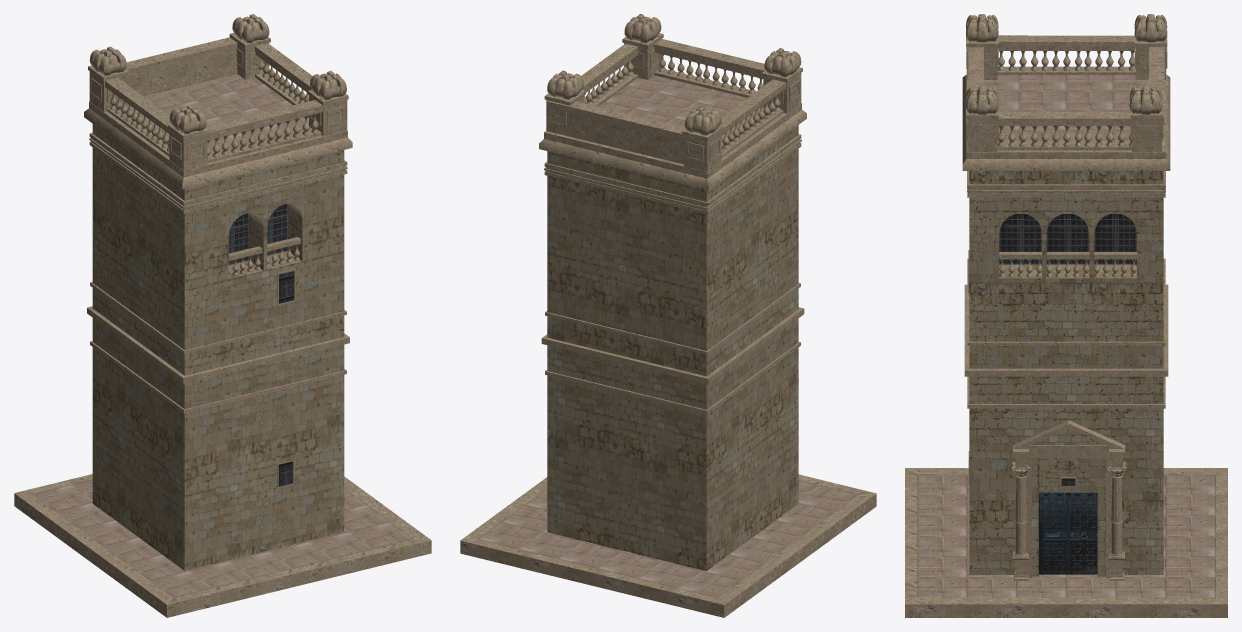
File: buildingWesternTower.glb
3 views of the same model, side by side, from view 1: azimuth 30°, elevation 25°; view 2: azimuth 150°, elevation 25°; view 3: azimuth 270°, elevation 25° (orthographic). The views are drawn at different scales.
Parts seen in each view (by area): view 1: structure, floor, fence2, pCube26; view 2: structure, floor, pCube26, fence2; view 3: structure, floor, fence2, pCube26, Column9, Column10.
Boxes of the visible parts, left/top/right/bottom form: structure: left=84, top=32, right=352, bottom=570; floor: left=14, top=474, right=431, bottom=617; fence2: left=110, top=60, right=318, bottom=277; pCube26: left=89, top=14, right=346, bottom=133; structure: left=539, top=33, right=806, bottom=570; floor: left=460, top=474, right=876, bottom=617; pCube26: left=547, top=14, right=801, bottom=135; fence2: left=584, top=54, right=780, bottom=153; structure: left=962, top=30, right=1170, bottom=577; floor: left=905, top=468, right=1227, bottom=617; fence2: left=997, top=51, right=1136, bottom=277; pCube26: left=966, top=14, right=1167, bottom=114; Column9: left=1011, top=449, right=1030, bottom=580; Column10: left=1107, top=449, right=1126, bottom=580.
Size of the model in its own units: 0.04 by 0.0675 by 0.04.
Materials: 5 (5 with a texture image).
